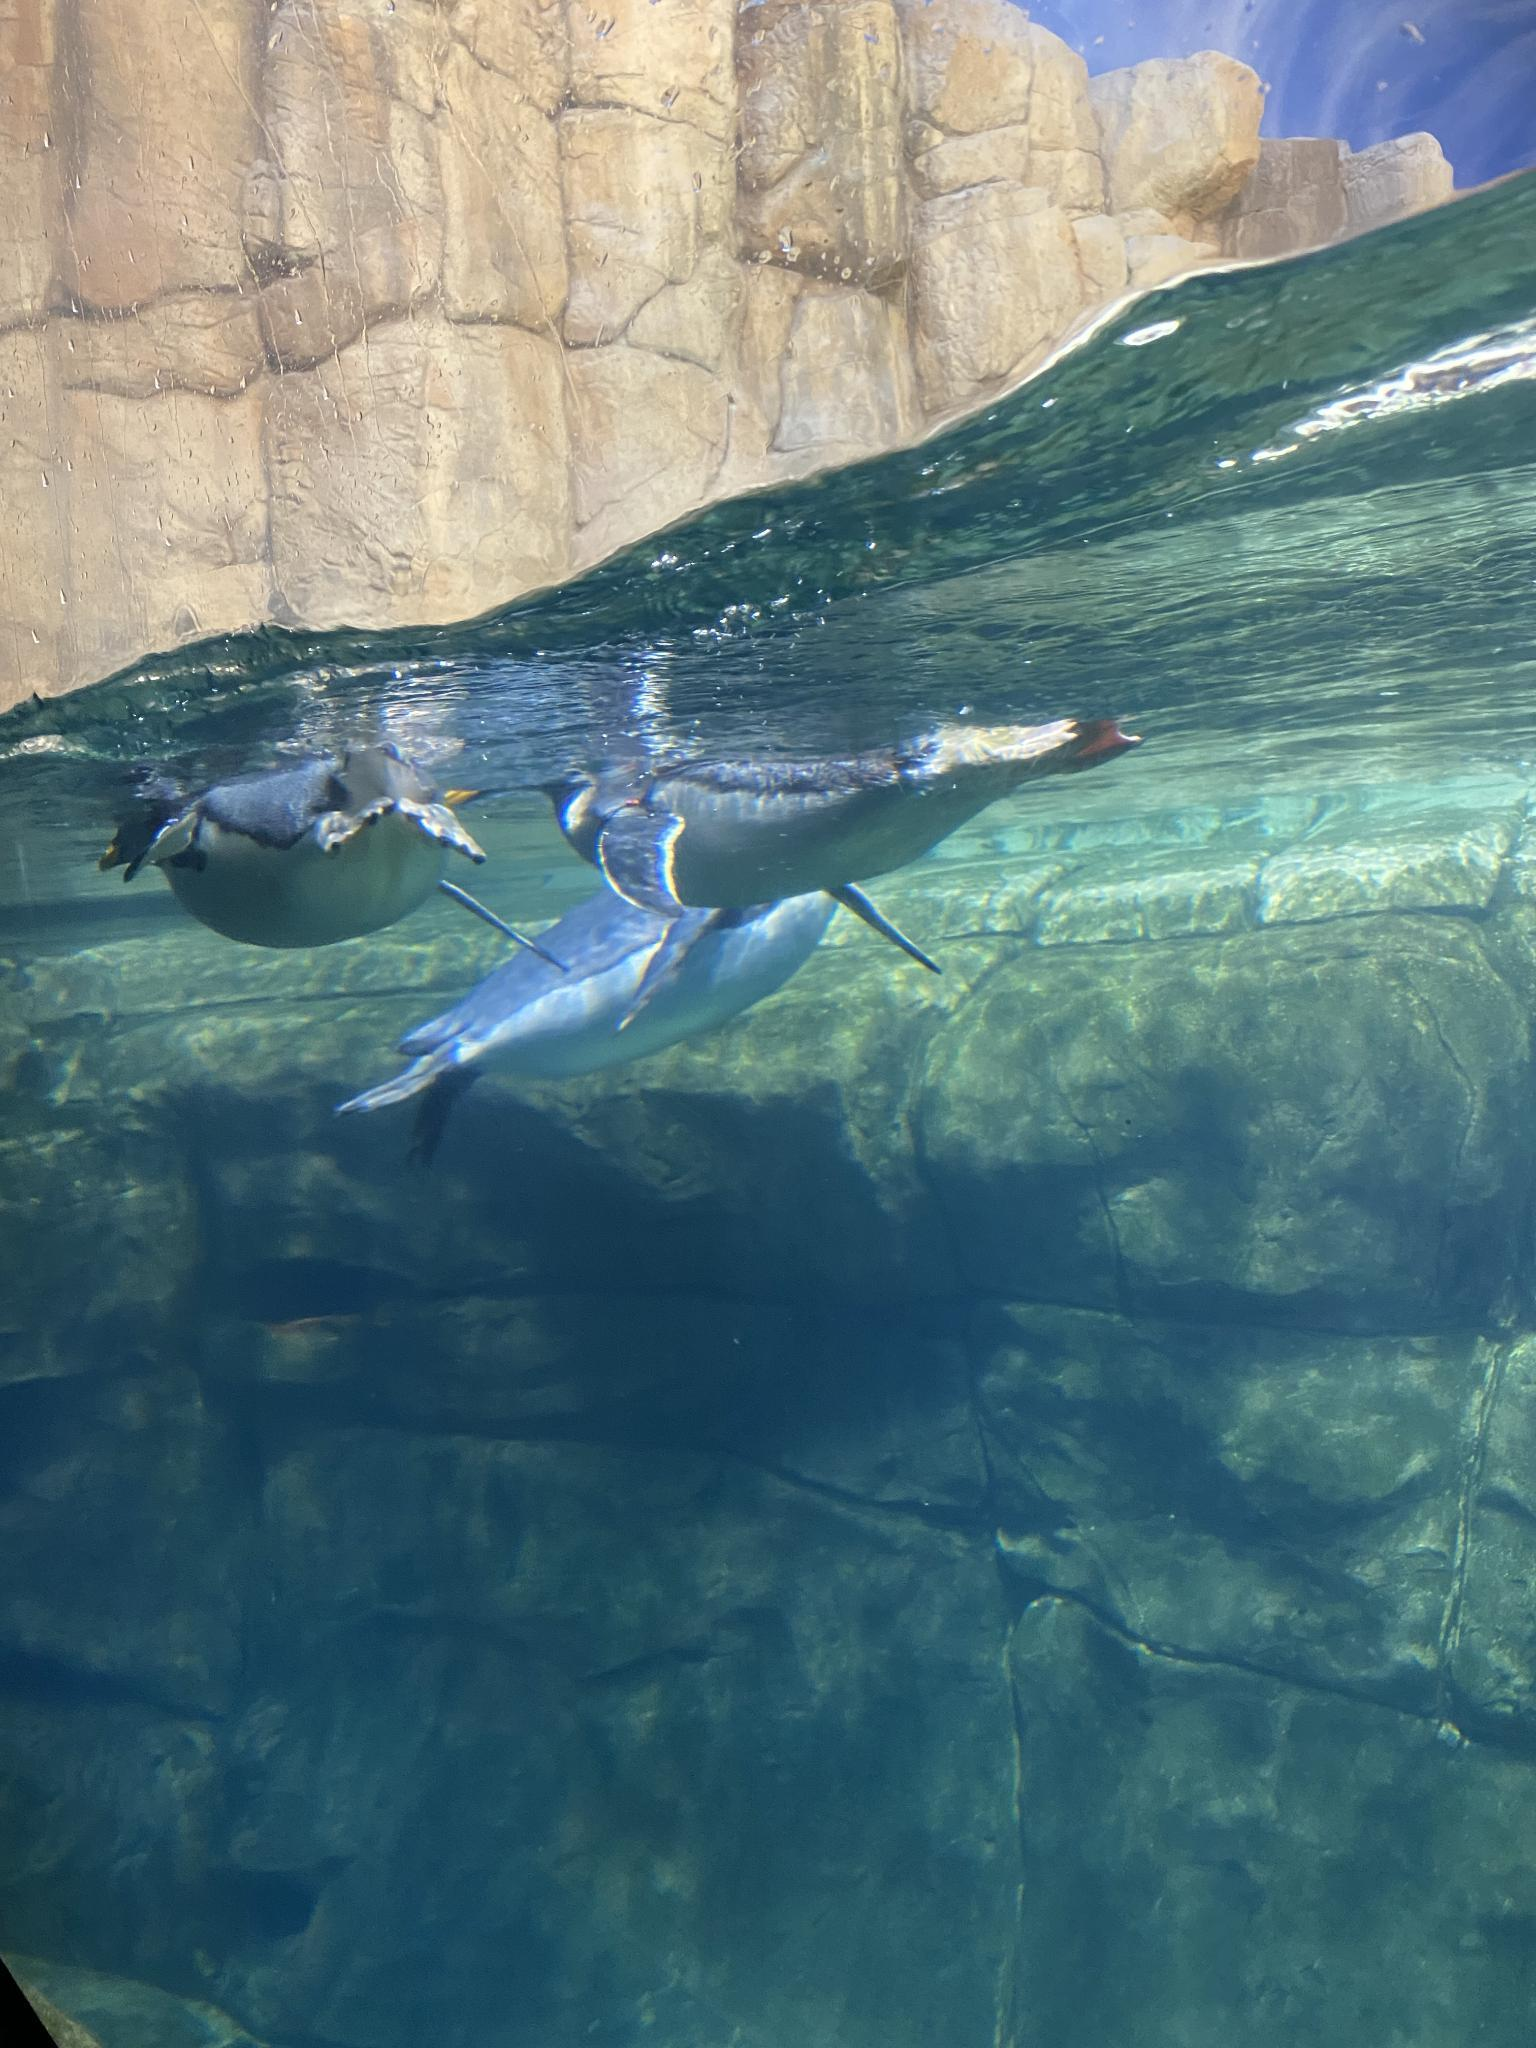penguin: (437, 708, 1144, 972), (339, 819, 844, 1163), (94, 740, 570, 976)
